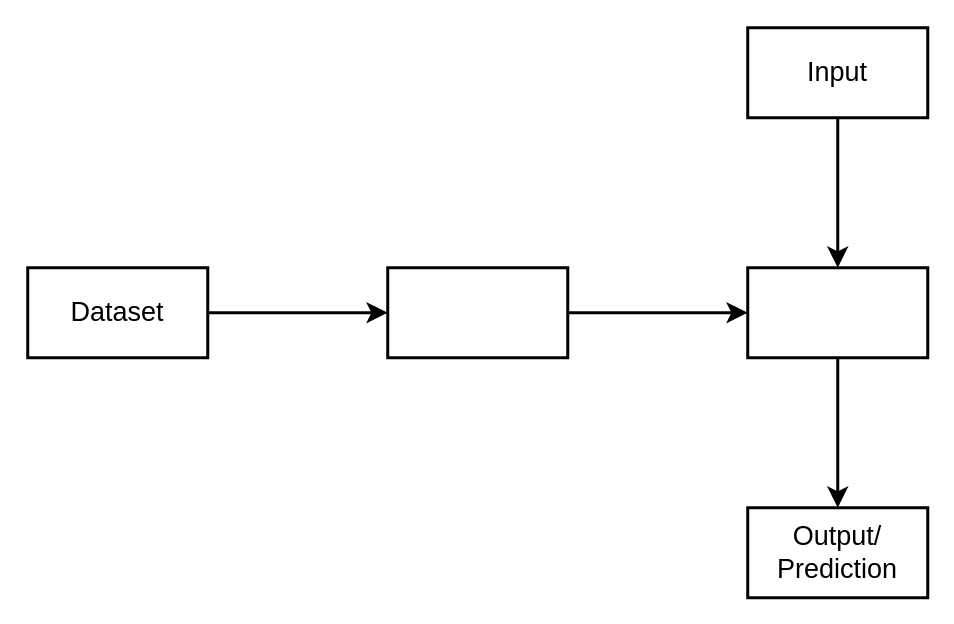
The diagram is 954 pixels wide and 624 high, and some of its shapes have lost their labels. Here are the shapes that lost their labels. From the top down, the box of each, then its label:
(386, 266, 568, 358): ML Algorithm
(746, 266, 928, 358): Program/ ML Model
